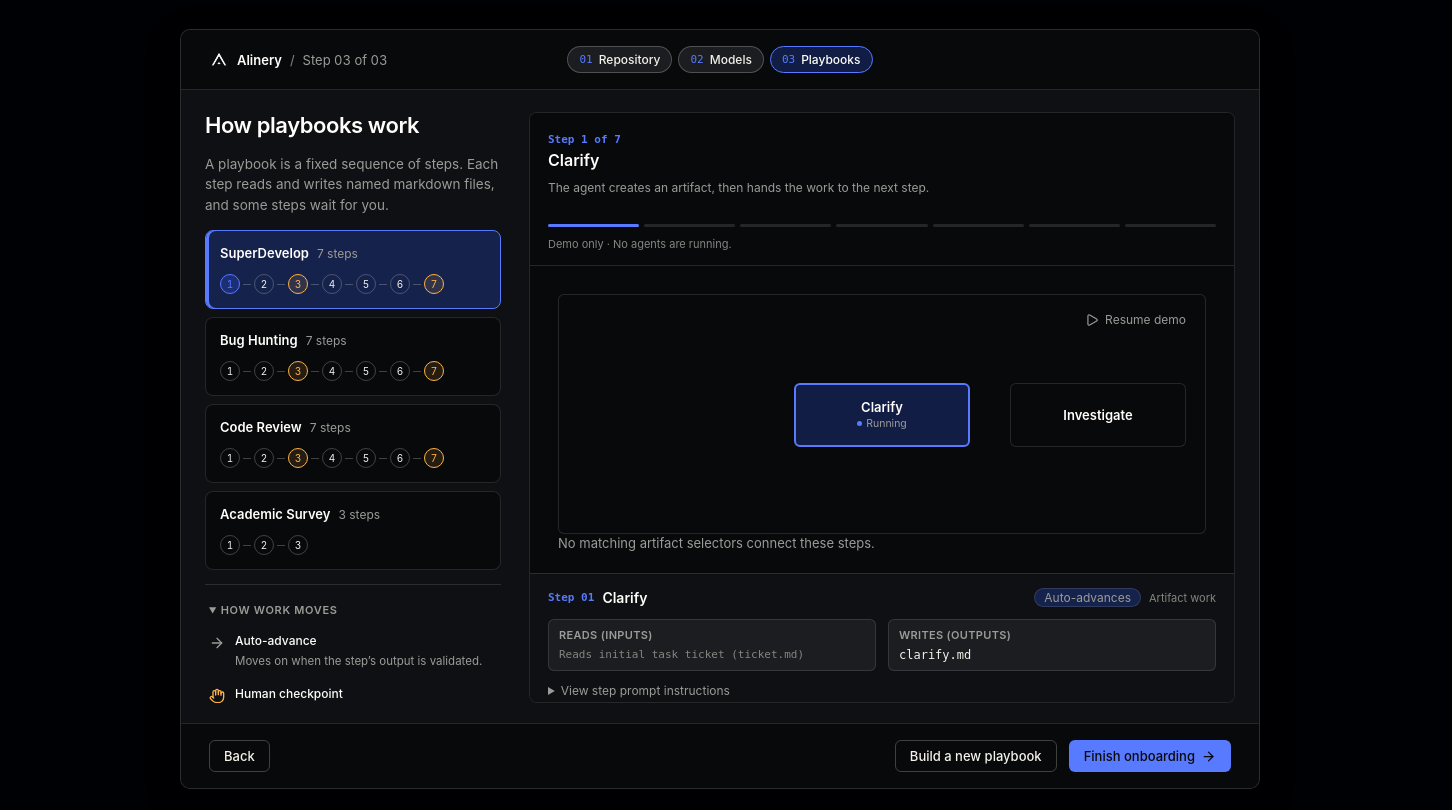
it: OnboardingFlow wizard › respects reduced motion until demo playback is explicitly requested
The width and height of the screenshot is (1452, 810).
expect the element named "Explore starter playbooks" is shown: met, box [205,230,501,570]
expect the text "Step 1 of 7" is shown: met, box [548,133,621,146]
Click the button "Resume demo".
click(1136, 320)  # box [1077,306,1194,334]
Wait 2600 ms
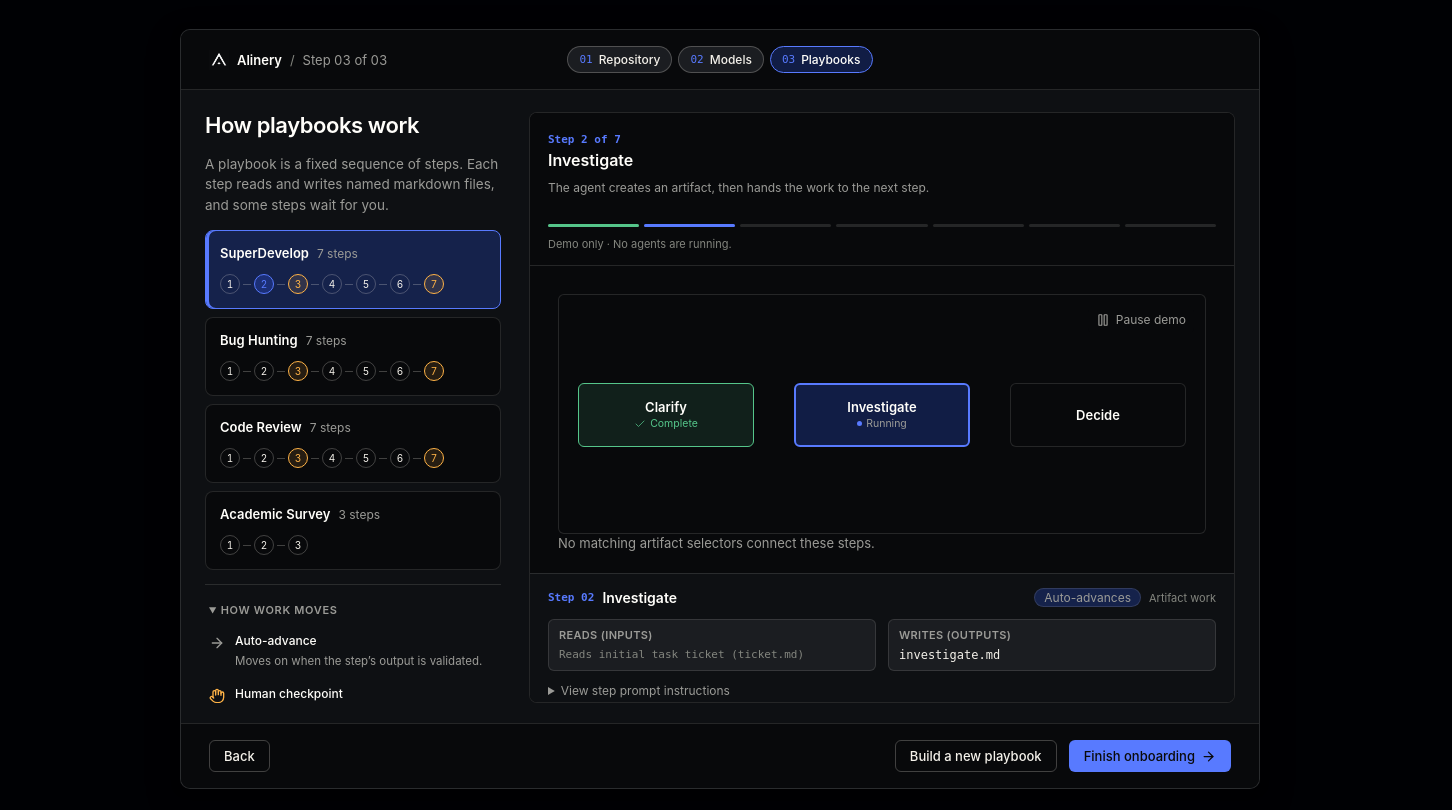
expect the text "Step 2 of 7" is shown: met, box [548,133,621,146]
